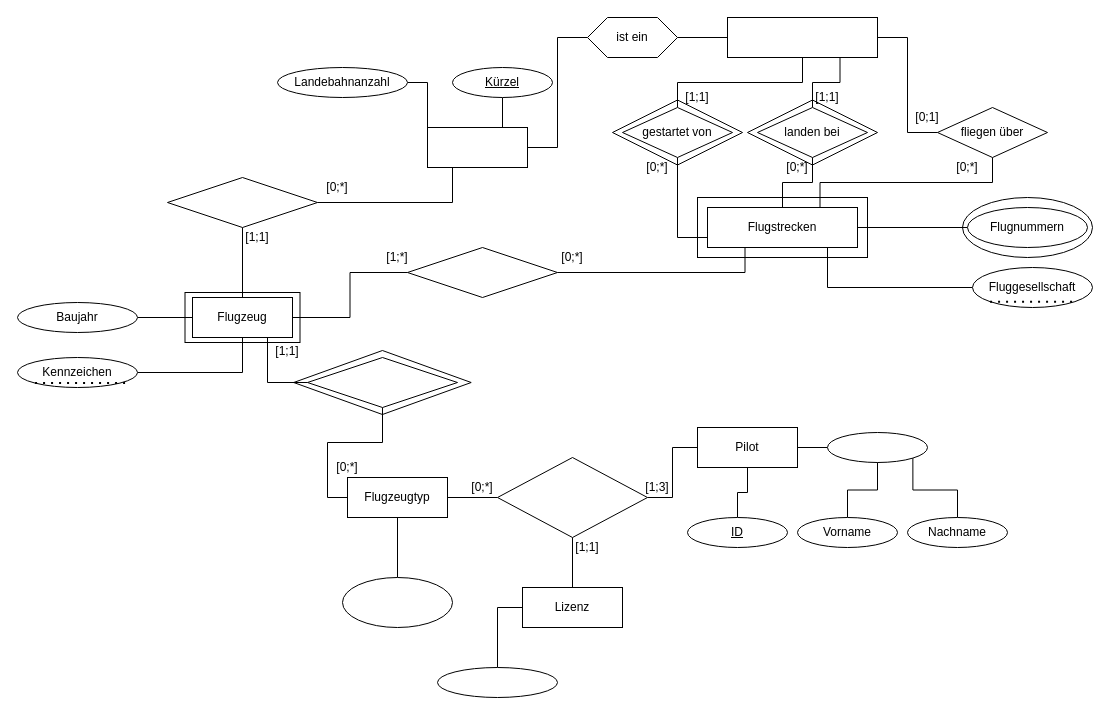
The diagram is 1110 pixels wide and 715 high, and some of its shapes have lost their labels. Each missing label, with the box of its shape:
Ausstelldatum: (436, 666, 558, 698)
besitzt Lizenz für: (496, 456, 648, 538)
Flughafen: (426, 126, 528, 168)
hat Flugzeugtyp: (306, 356, 458, 408)
ist Heimatflughafen: (166, 176, 318, 228)
Modellnummer: (342, 576, 452, 628)
Name: (826, 432, 928, 462)
Passagierflughafen: (726, 16, 878, 58)
unterwegs auf: (406, 246, 558, 298)
